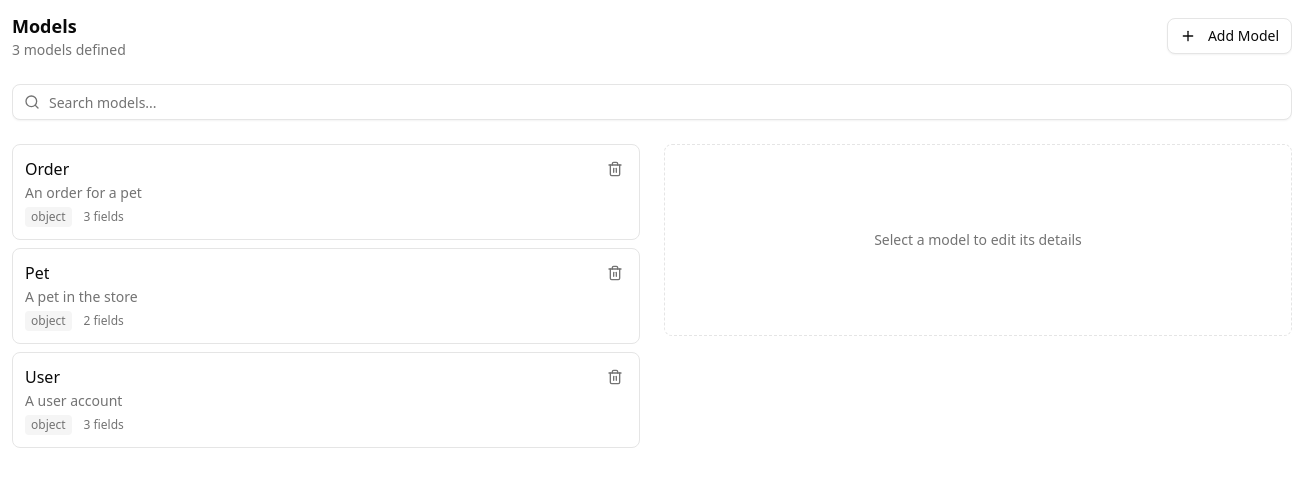
ModelsTab › Model Selection and Editing › should show model details when selected
Click the button with aria-label "select pet model": (81,296) [25,261,595,331]
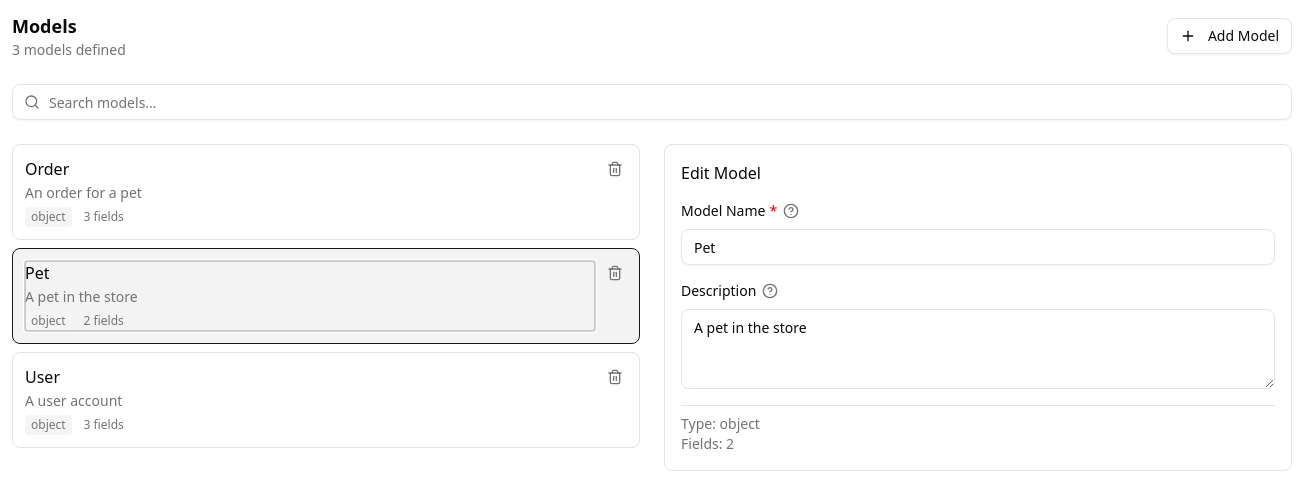
Check: the field labelled "Model Name*" holds "Pet", box [681,229,1275,265]
